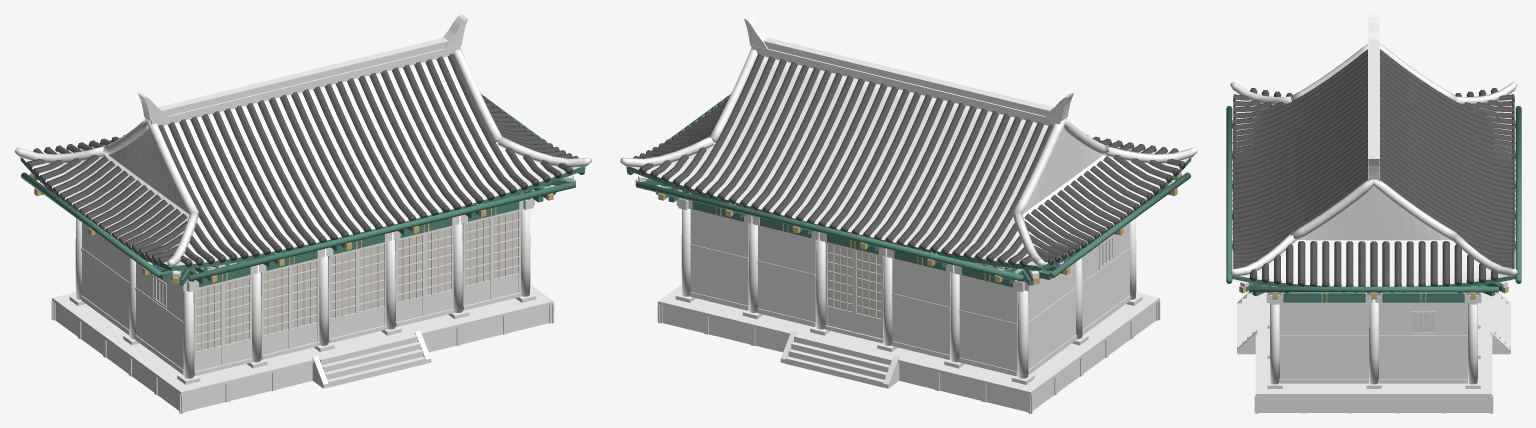
The model's file is v_shelter.glb.
3 renders of one model, left to right at view 1: azimuth 30°, elevation 25°; view 2: azimuth 150°, elevation 25°; view 3: azimuth 270°, elevation 25°, orthographic. The views are drawn at different scales.
Parts seen in each view (by area): view 1: v_shelter_giwa_row, v_shelter_giwa, v_shelter_red, v_shelter_granite, v_shelter_paper, v_shelter_green, v_shelter_plaster, v_shelter_gold; view 2: v_shelter_giwa_row, v_shelter_giwa, v_shelter_plaster, v_shelter_granite, v_shelter_red, v_shelter_green, v_shelter_paper, v_shelter_gold; view 3: v_shelter_giwa_row, v_shelter_plaster, v_shelter_giwa, v_shelter_granite, v_shelter_red, v_shelter_green, v_shelter_paper, v_shelter_gold.
Part boxes in pixels (x1,y1,x2,y2): v_shelter_giwa_row: (26,53,578,267); v_shelter_giwa: (14,14,591,267); v_shelter_red: (32,129,573,378); v_shelter_granite: (51,284,554,413); v_shelter_paper: (154,211,518,351); v_shelter_green: (20,94,585,287); v_shelter_plaster: (82,195,513,369); v_shelter_gold: (29,172,575,284); v_shelter_giwa_row: (633,53,1185,267); v_shelter_giwa: (620,14,1197,267); v_shelter_plaster: (690,195,1129,371); v_shelter_granite: (657,284,1160,413); v_shelter_red: (638,129,1179,378); v_shelter_green: (626,94,1191,287); v_shelter_paper: (828,244,881,318); v_shelter_gold: (635,172,1181,284); v_shelter_giwa_row: (1232,49,1515,286); v_shelter_plaster: (1280,292,1467,378); v_shelter_giwa: (1230,14,1517,286); v_shelter_granite: (1237,292,1510,413); v_shelter_red: (1232,117,1515,384); v_shelter_green: (1226,106,1521,302); v_shelter_paper: (1412,313,1434,332); v_shelter_gold: (1239,286,1508,302).
Bounding box in the file's own units: 11.46 × 6.79 × 7.46.
